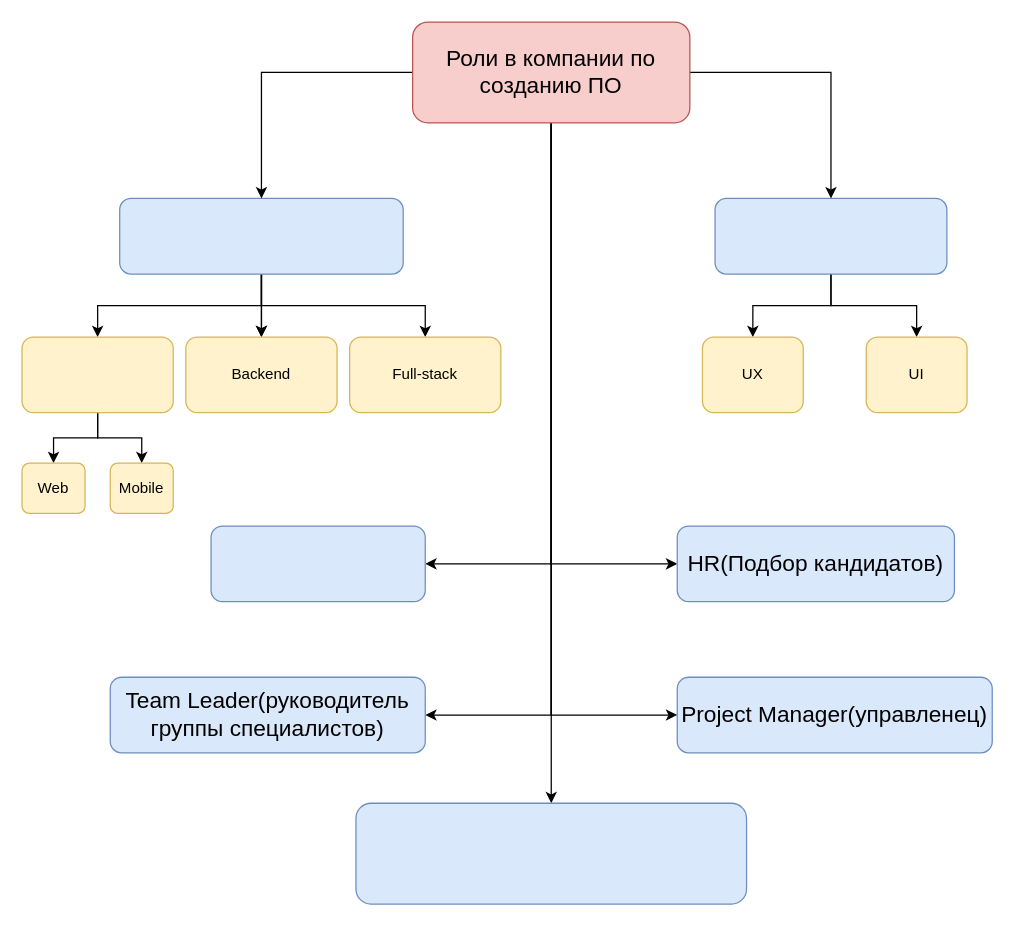
The diagram is 1014 pixels wide and 926 high, and some of its shapes have lost their labels. Here are the shapes that lost their labels. From the top down, the box of each, then its label:
(118, 197, 403, 274): Developer(Разработчик)
(714, 197, 947, 274): Designer(Дизайнер)
(21, 336, 173, 413): Frontend
(210, 525, 425, 602): QA(Тестирование)
(355, 802, 747, 904): Business Analyst(Бизнес аналитик)
